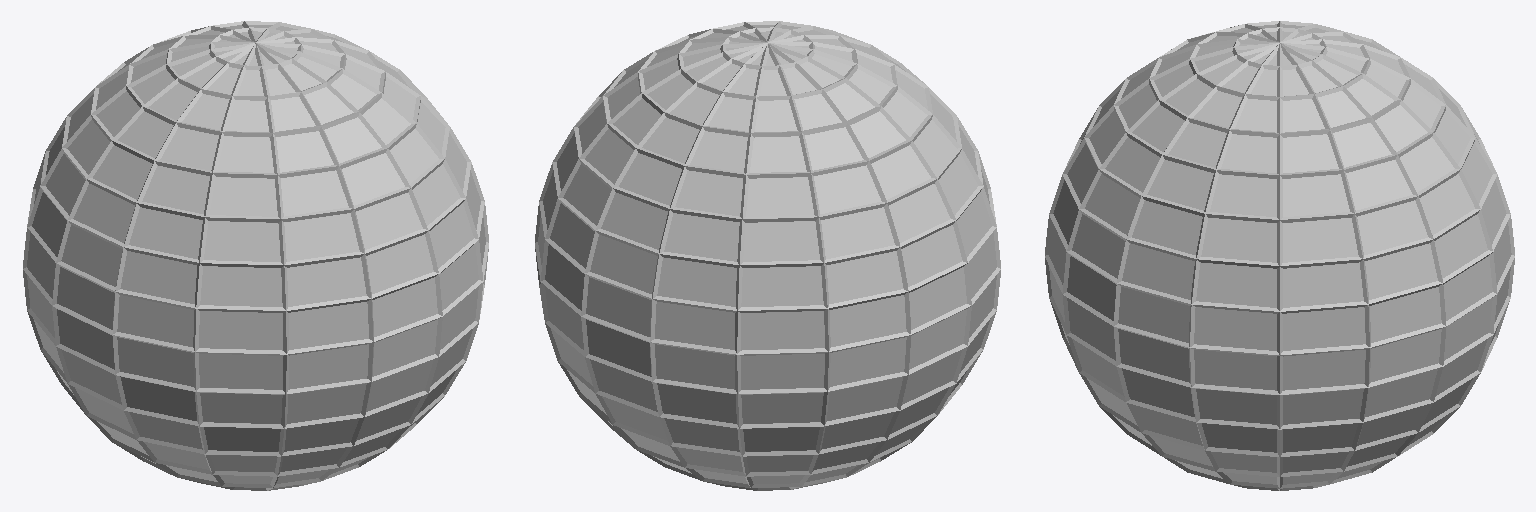
Rendered from Sphere_Triangulated.obj.
The picture shows the model from 3 angles: view 1: azimuth 30°, elevation 25°; view 2: azimuth 150°, elevation 25°; view 3: azimuth 270°, elevation 25°; orthographic projection.
Parts seen in each view (by area): view 1: Sphere.002; view 2: Sphere.002; view 3: Sphere.002.
Part boxes in pixels (bbox=[...]): Sphere.002: bbox=[23, 21, 488, 490]; Sphere.002: bbox=[535, 21, 1000, 490]; Sphere.002: bbox=[1045, 21, 1514, 490].
Size of the model in its own units: 2.03 by 2.03 by 2.03.